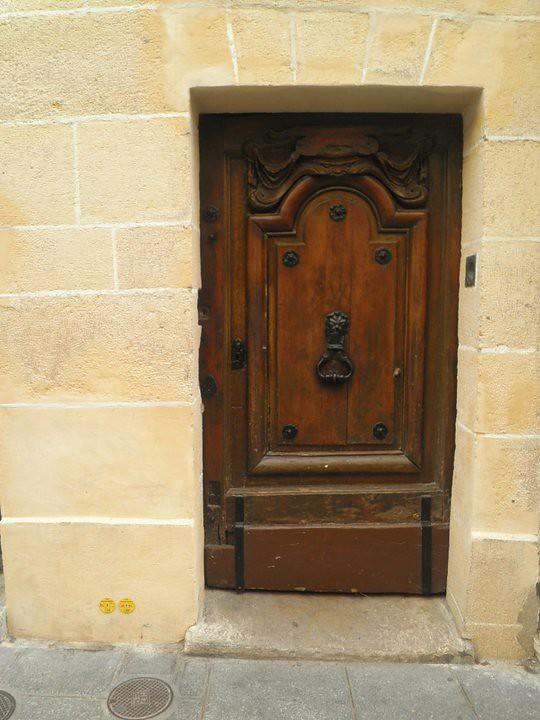door: (198, 112, 464, 597)
